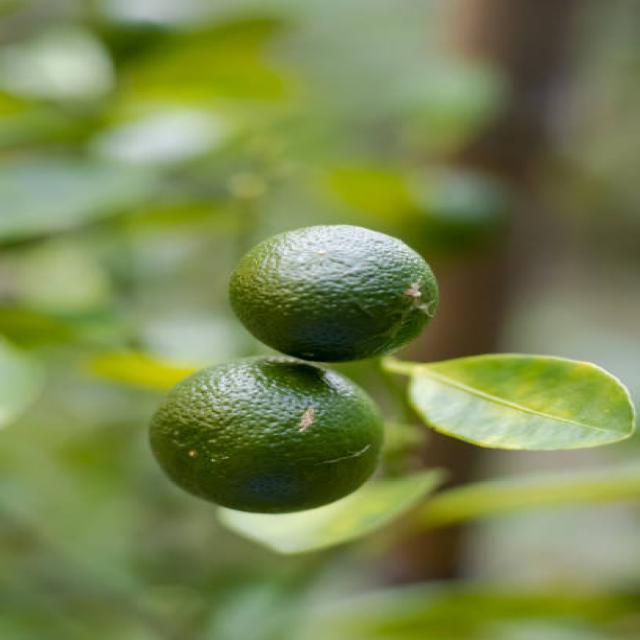Unripe: (150, 357, 386, 514), (228, 221, 443, 362)
